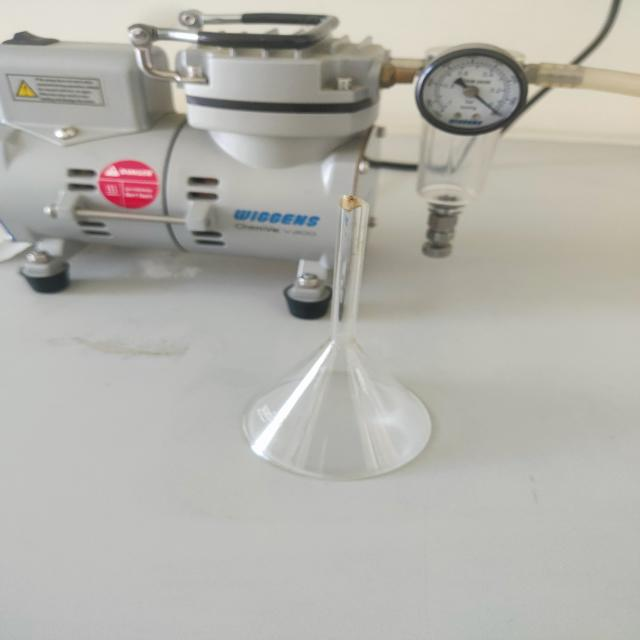Funnel: (227, 170, 450, 503)
